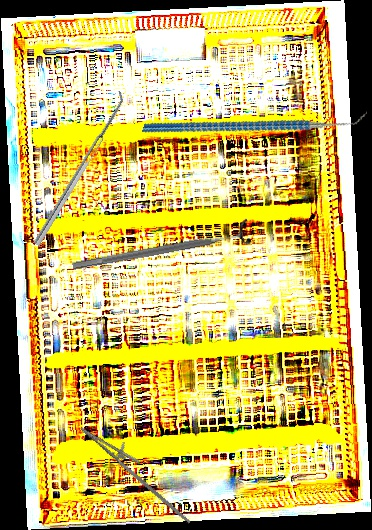Chopper: (142, 45, 368, 196)
Fixation Ring: (69, 218, 253, 280)
Needle Holder: (70, 417, 207, 525)
Spatula Surgical: (27, 89, 129, 247)
